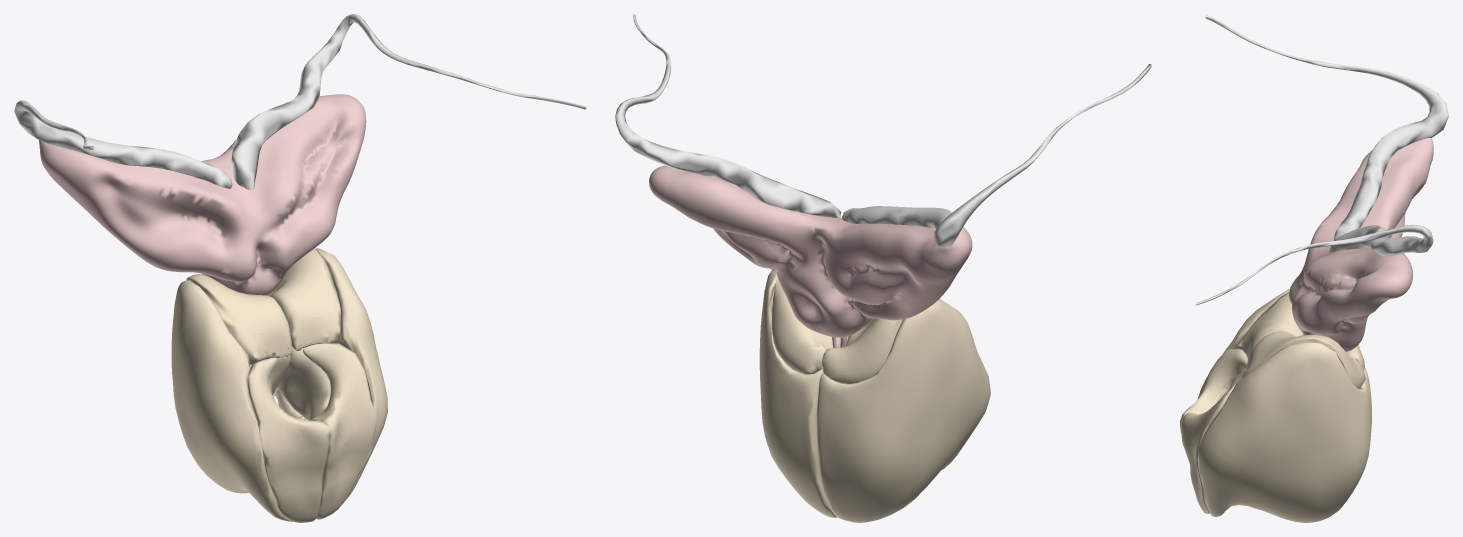
The model's file is vh_m_prostate-100.fbx.
3 views of the same model, side by side, from view 1: azimuth 30°, elevation 25°; view 2: azimuth 150°, elevation 25°; view 3: azimuth 270°, elevation 25° (orthographic). The views are drawn at different scales.
Parts seen in each view (by area): view 1: VH_M_seminal_vesicle, VH_M_peripheral_zone_of_prostate_R, VH_M_anterior_fibromuscular_stroma_R, VH_M_anterior_fibromuscular_stroma_L, VH_M_vas_deferens_R, VH_M_vas_deferens_L, VH_M_central_zone_of_prostate_L, VH_M_peripheral_zone_of_prostate_L, VH_M_central_zone_of_prostate_R, VH_M_base_of_prostate, VH_M_transition_zone__of_prostate_L; view 2: VH_M_peripheral_zone_of_prostate_R, VH_M_seminal_vesicle, VH_M_peripheral_zone_of_prostate_L, VH_M_vas_deferens_R, VH_M_vas_deferens_L, VH_M_central_zone_of_prostate_R, VH_M_central_zone_of_prostate_L; view 3: VH_M_peripheral_zone_of_prostate_L, VH_M_seminal_vesicle, VH_M_vas_deferens_L, VH_M_vas_deferens_R, VH_M_central_zone_of_prostate_L, VH_M_central_zone_of_prostate_R, VH_M_anterior_fibromuscular_stroma_L, VH_M_anterior_fibromuscular_stroma_R, VH_M_base_of_prostate, VH_M_peripheral_zone_of_prostate_R.
Part boxes in pixels (box(x1,y1,x2,y2)): VH_M_seminal_vesicle: box(39, 94, 366, 295); VH_M_peripheral_zone_of_prostate_R: box(171, 280, 293, 521); VH_M_anterior_fibromuscular_stroma_R: box(248, 357, 329, 522); VH_M_anterior_fibromuscular_stroma_L: box(303, 343, 375, 519); VH_M_vas_deferens_R: box(231, 14, 586, 190); VH_M_vas_deferens_L: box(14, 100, 232, 188); VH_M_central_zone_of_prostate_L: box(267, 248, 340, 387); VH_M_peripheral_zone_of_prostate_L: box(272, 248, 387, 499); VH_M_central_zone_of_prostate_R: box(186, 274, 292, 364); VH_M_base_of_prostate: box(236, 317, 367, 454); VH_M_transition_zone__of_prostate_L: box(277, 346, 330, 420); VH_M_peripheral_zone_of_prostate_R: box(816, 299, 990, 522); VH_M_seminal_vesicle: box(649, 165, 972, 337); VH_M_peripheral_zone_of_prostate_L: box(759, 270, 837, 517); VH_M_vas_deferens_R: box(615, 14, 841, 217); VH_M_vas_deferens_L: box(841, 64, 1151, 247); VH_M_central_zone_of_prostate_R: box(821, 318, 902, 383); VH_M_central_zone_of_prostate_L: box(772, 277, 848, 374); VH_M_peripheral_zone_of_prostate_L: box(1197, 342, 1371, 522); VH_M_seminal_vesicle: box(1289, 138, 1433, 351); VH_M_vas_deferens_L: box(1205, 14, 1448, 240); VH_M_vas_deferens_R: box(1196, 225, 1433, 305); VH_M_central_zone_of_prostate_L: box(1241, 332, 1365, 388); VH_M_central_zone_of_prostate_R: box(1241, 292, 1364, 369); VH_M_anterior_fibromuscular_stroma_L: box(1181, 379, 1240, 513); VH_M_anterior_fibromuscular_stroma_R: box(1180, 349, 1247, 443); VH_M_base_of_prostate: box(1182, 325, 1253, 447); VH_M_peripheral_zone_of_prostate_R: box(1200, 289, 1371, 409).
Bounding box in the file's own units: 8.3 × 7.06 × 4.28.
